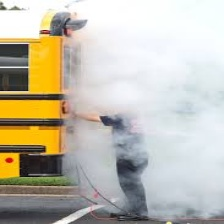smoke: (73, 16, 224, 202)
